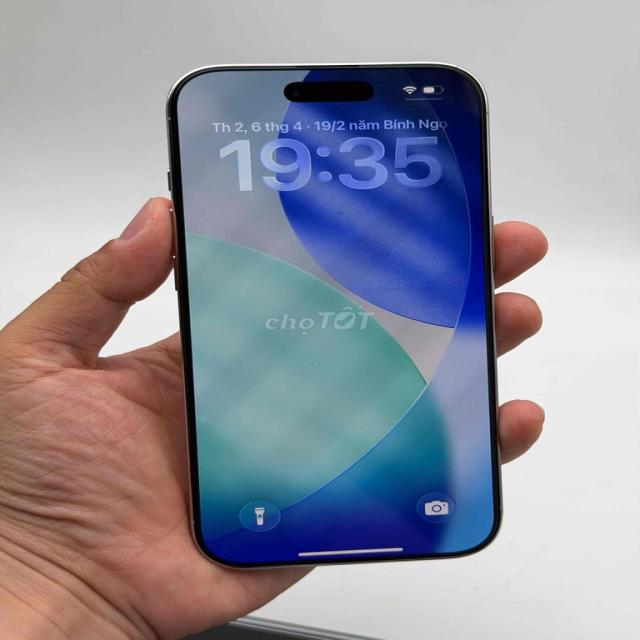gen_17: (158, 58, 514, 572)
